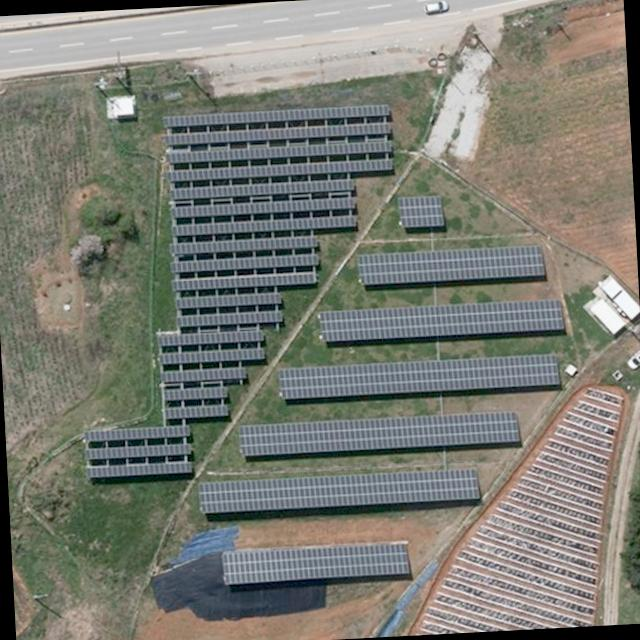solar: (197, 460, 485, 516), (276, 350, 562, 404), (237, 410, 523, 462), (316, 296, 568, 347), (220, 540, 415, 588), (356, 243, 548, 290), (164, 121, 392, 148), (164, 104, 392, 128), (164, 141, 394, 164), (166, 160, 393, 183), (170, 215, 358, 238), (169, 198, 356, 220), (169, 180, 355, 201), (170, 253, 320, 275), (170, 235, 319, 255), (172, 273, 316, 293), (157, 346, 265, 366), (156, 329, 266, 348), (396, 192, 448, 232), (82, 423, 191, 442), (85, 462, 193, 481), (84, 442, 192, 460), (179, 311, 284, 328), (173, 294, 282, 310), (158, 366, 248, 384), (163, 405, 229, 421), (162, 388, 228, 403)
